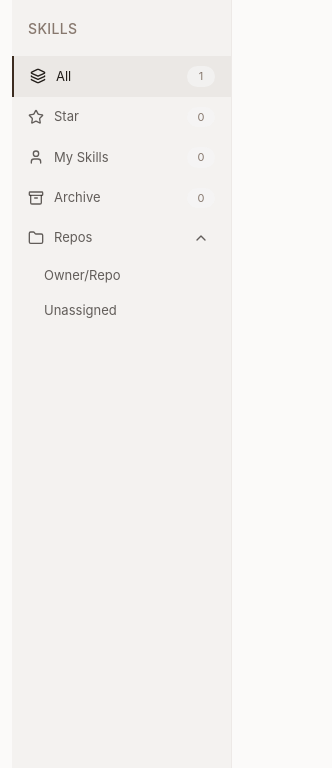
Test: SkillSidebar › exposes the repo group's expanded state
The width and height of the screenshot is (332, 768).
What coordinates should you click on to do the following:
click the button "Repos"
I would click on:
 (122, 238)
Its box is [12,218,231,258].
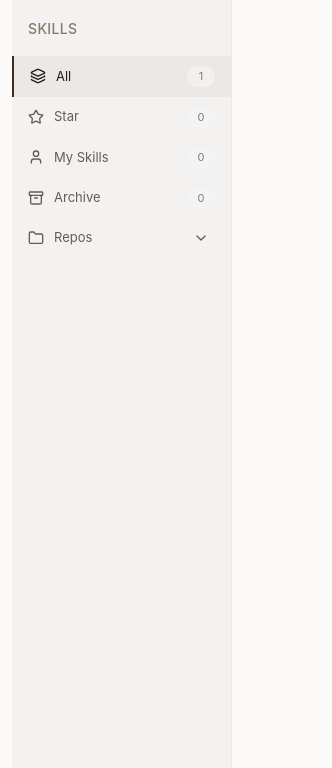
Check: the button "Repos" is collapsed, box [12,218,231,258]
